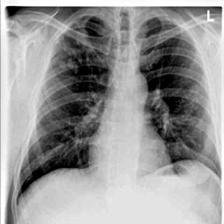tuberculosis: (14, 10, 221, 206)
